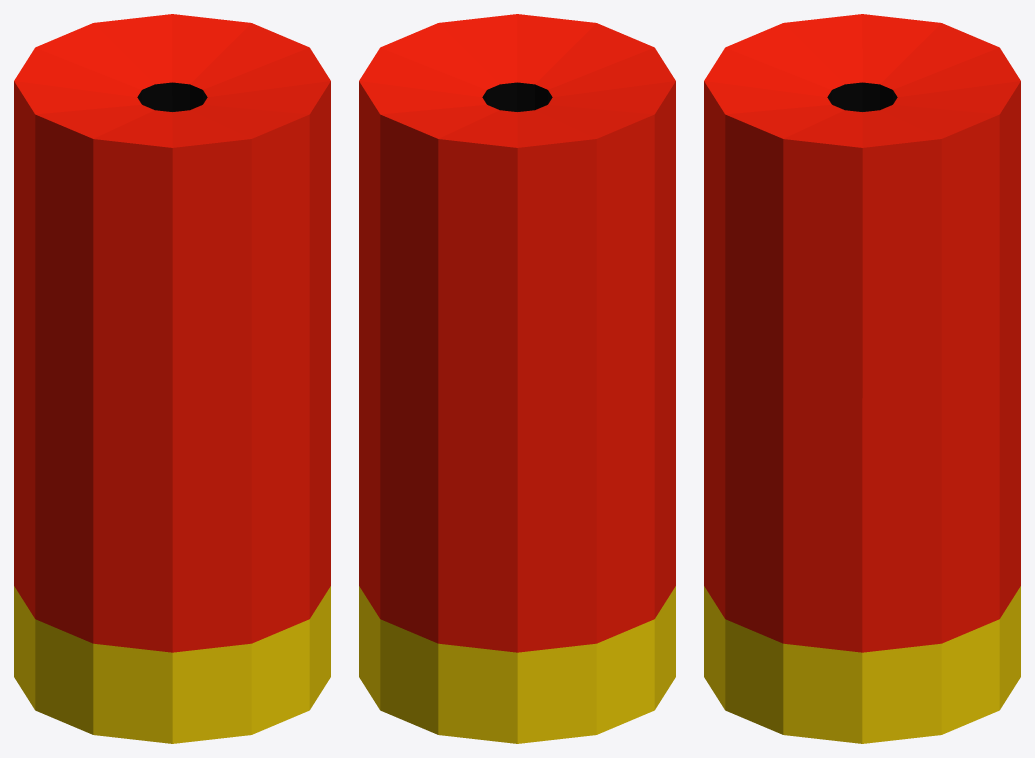
The model's file is Shotgun_Ammo_0.fbx.
The picture shows the model from 3 angles, left to right: view 1: azimuth 30°, elevation 25°; view 2: azimuth 150°, elevation 25°; view 3: azimuth 270°, elevation 25°; orthographic projection.
Parts seen in each view (by area): view 1: Ammo_SH; view 2: Ammo_SH; view 3: Ammo_SH.
Boxes of the visible parts, box(x1,y1,x2,y2) form: Ammo_SH: box(14, 14, 330, 743); Ammo_SH: box(359, 14, 675, 743); Ammo_SH: box(704, 14, 1020, 743).
Bounding box in the file's own units: 27.54 × 57.14 × 27.54.
